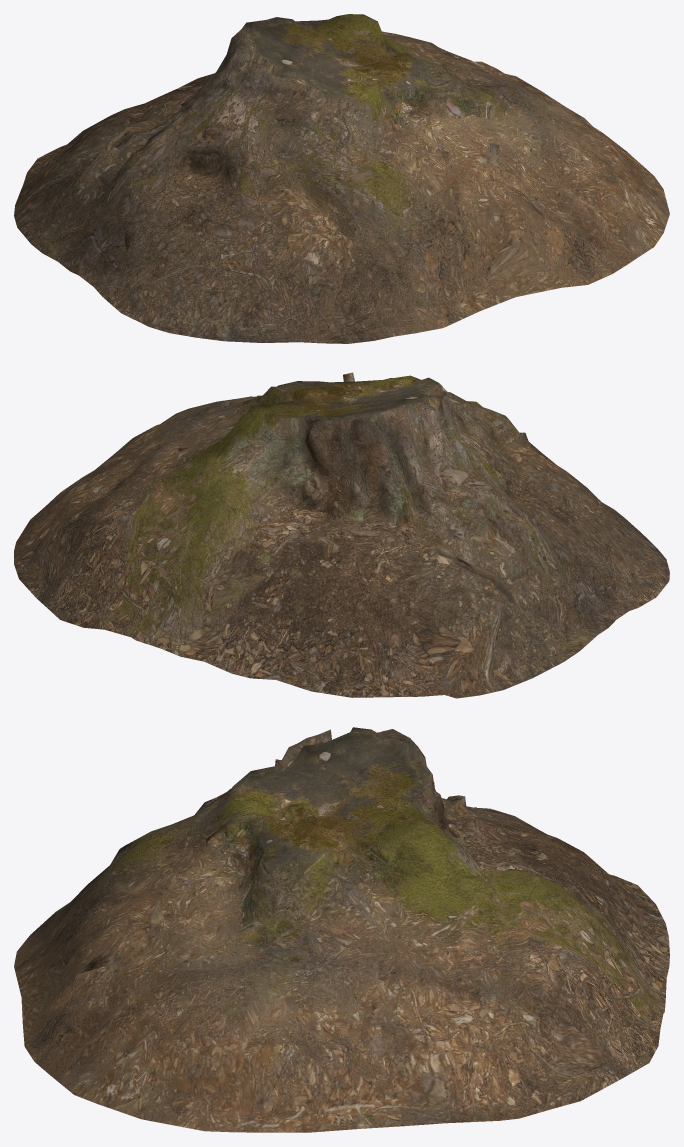
File: stump_2.gltf
The picture shows the model from 3 angles, top to bottom: view 1: azimuth 30°, elevation 25°; view 2: azimuth 150°, elevation 25°; view 3: azimuth 270°, elevation 25°; orthographic projection. The views are drawn at different scales.
Parts seen in each view (by area): view 1: stump_2; view 2: stump_2; view 3: stump_2.
Boxes of the visible parts, x1,y1,x2,y2 form: stump_2: [14, 14, 669, 343]; stump_2: [14, 372, 669, 698]; stump_2: [14, 727, 669, 1132].
Size of the model in its own units: 1.52 by 0.5191 by 1.39.
1 material, 1 textured.
